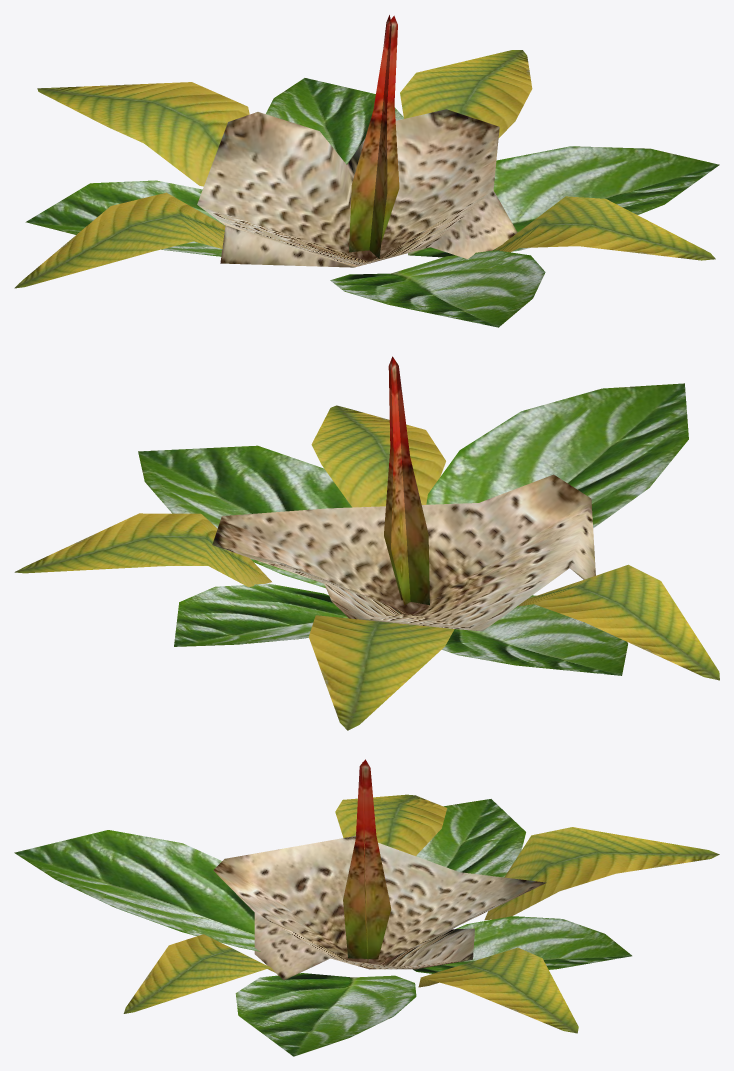
File: mprw_plant_01.FBX
3 views of the same model, one above another, from view 1: azimuth 30°, elevation 25°; view 2: azimuth 150°, elevation 25°; view 3: azimuth 270°, elevation 25° (orthographic). The views are drawn at different scales.
Parts seen in each view (by area): view 1: mprw_plant_01; view 2: mprw_plant_01; view 3: mprw_plant_01.
Part boxes in pixels (x1=…): mprw_plant_01: x1=14, y1=15, x2=719, y2=327; mprw_plant_01: x1=14, y1=356, x2=719, y2=730; mprw_plant_01: x1=14, y1=759, x2=719, y2=1056.
Size of the model in its own units: 169 by 61.81 by 182.
Materials: 1 (1 with a texture image).
